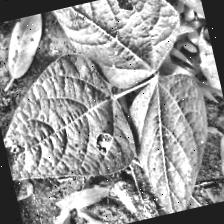ALS: (0, 44, 140, 195), (24, 0, 191, 103), (126, 65, 224, 216)
